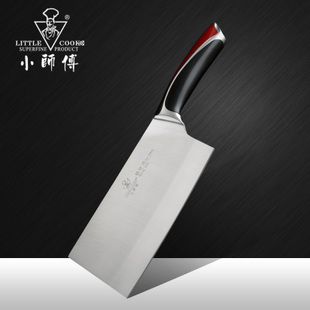knief: (92, 18, 226, 297)
